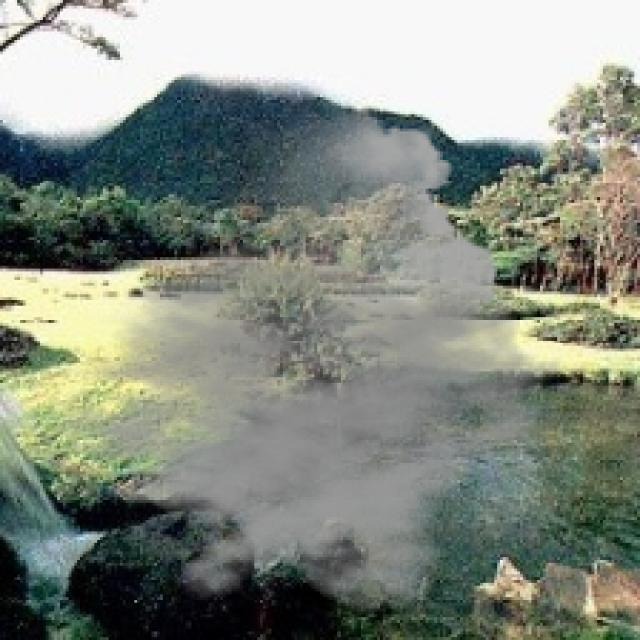smoke: (31, 100, 566, 614)
